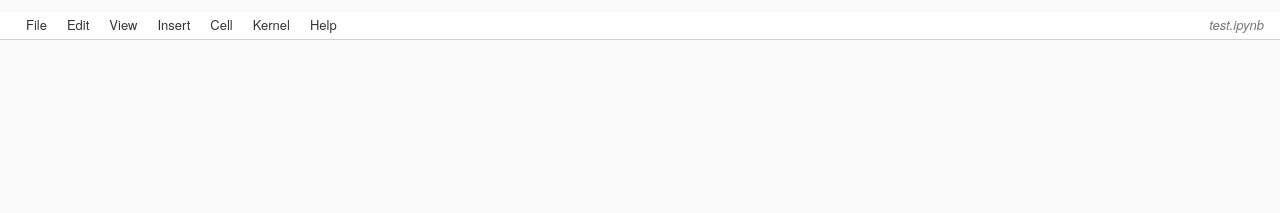
Test: MenuBar › opens Edit dropdown with cell operations
The width and height of the screenshot is (1280, 213).
What coordinates should you click on to do the following:
click the text "Edit"
I would click on:
 (78, 24)
Its box is left=67, top=15, right=89, bottom=34.
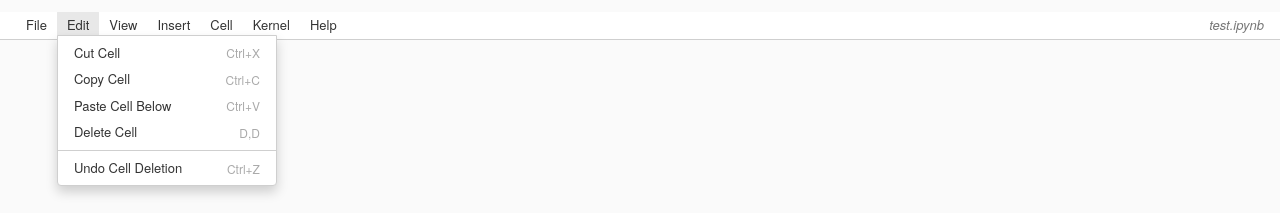
Check: the text "Cut Cell" is shown, box left=74, top=44, right=120, bottom=62
Check: the text "Copy Cell" is shown, box left=74, top=70, right=130, bottom=89
Check: the text "Paste Cell Below" is shown, box left=74, top=97, right=172, bottom=115
